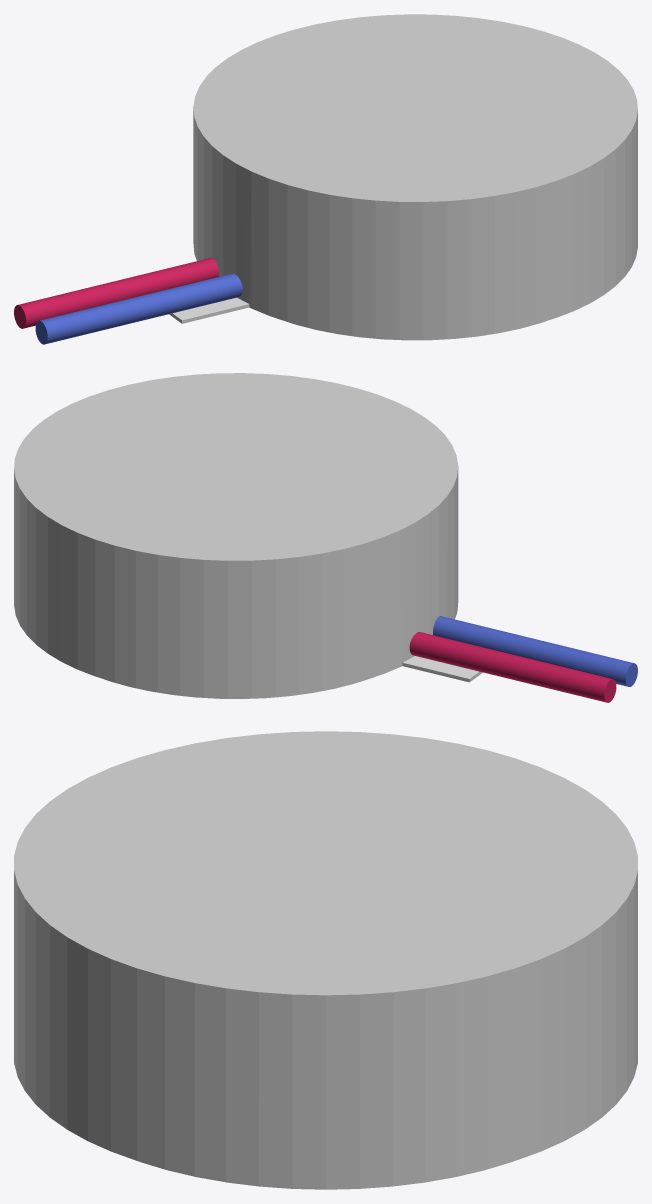
The picture shows the model from 3 angles, top to bottom: view 1: azimuth 30°, elevation 25°; view 2: azimuth 150°, elevation 25°; view 3: azimuth 270°, elevation 25°; orthographic projection. The views are drawn at different scales.
Parts seen in each view (by area): view 1: _449; view 2: _449; view 3: _449.
Part boxes in pixels (x1,y1,x2,y2): _449: (14, 14, 637, 344); _449: (14, 373, 637, 702); _449: (14, 731, 637, 1189).
Bounding box in the file's own units: 15 × 9.99 × 3.55.
